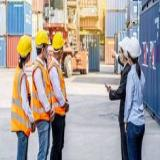Helmet: (16, 34, 33, 58), (125, 36, 142, 58), (118, 36, 134, 56), (35, 28, 51, 47), (51, 31, 66, 50)
Vest: (11, 64, 32, 138), (32, 59, 53, 123), (46, 59, 66, 119)
